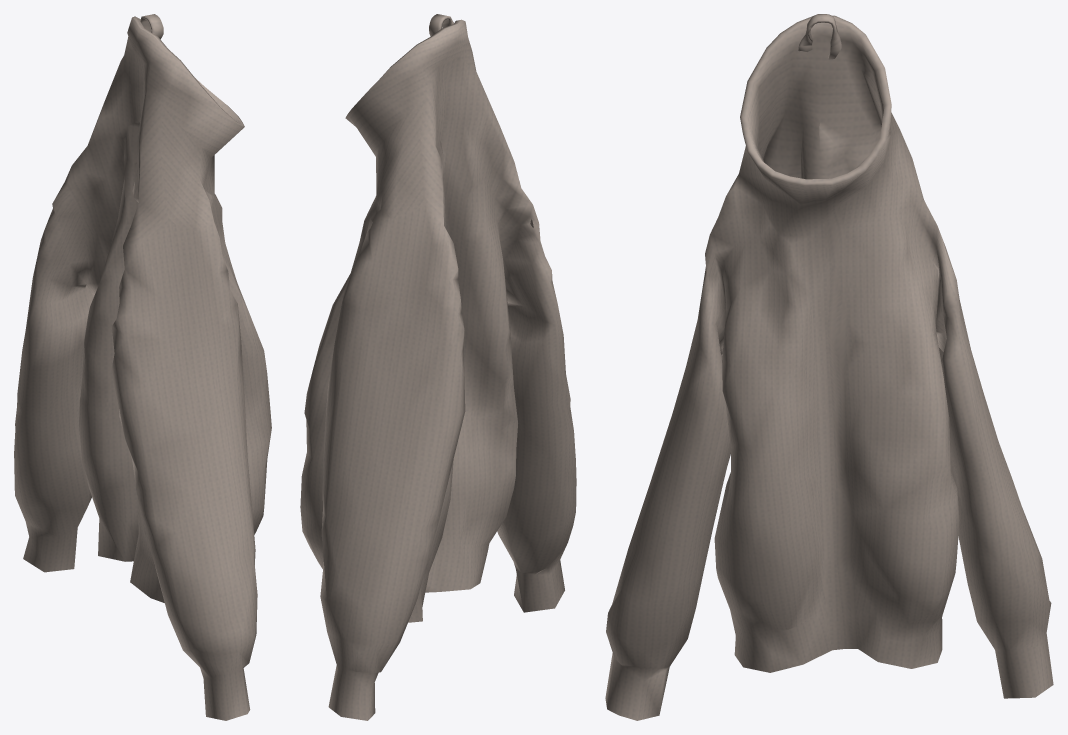
The model's file is SM_Cloth_A3.fbx.
3 renders of one model, left to right at view 1: azimuth 30°, elevation 25°; view 2: azimuth 150°, elevation 25°; view 3: azimuth 270°, elevation 25°, orthographic. The views are drawn at different scales.
Visible parts, largest first — view 1: SM_Cloth_A3; view 2: SM_Cloth_A3; view 3: SM_Cloth_A3.
Boxes of the visible parts, x1=… form: SM_Cloth_A3: x1=14, y1=14, x2=271, y2=720; SM_Cloth_A3: x1=300, y1=14, x2=576, y2=720; SM_Cloth_A3: x1=605, y1=14, x2=1053, y2=720.
Bounding box in the file's own units: 25.9 × 55.08 × 95.38.
1 material, 1 textured.
